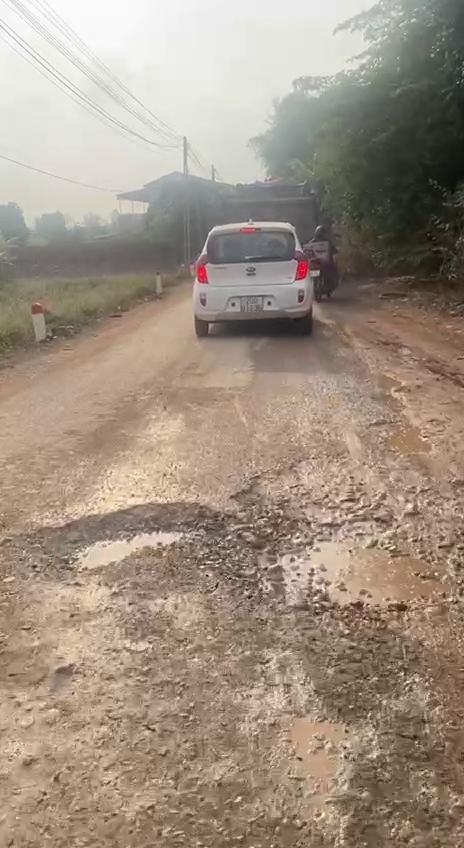pothole: (227, 504, 464, 608), (0, 496, 234, 594), (257, 706, 388, 841), (359, 375, 443, 462), (226, 454, 352, 510)
